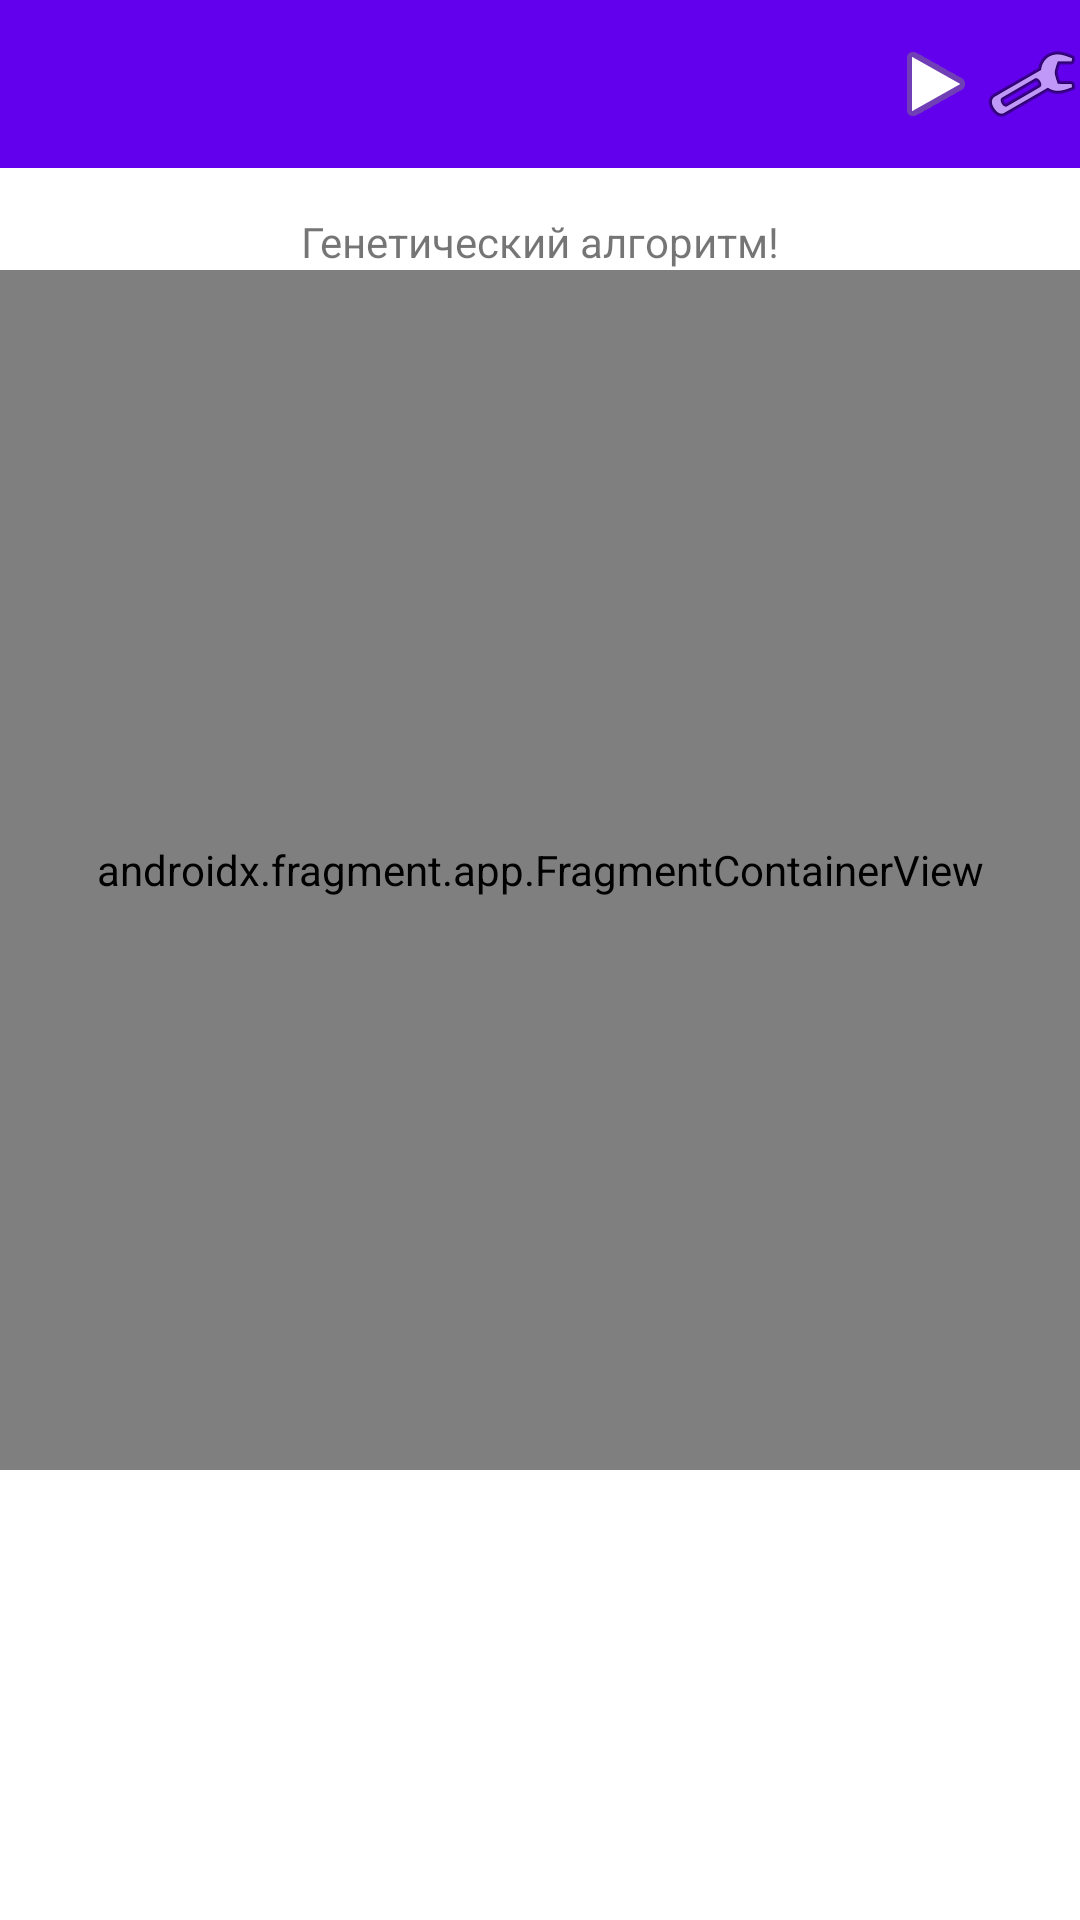

Screen size 1080 × 1920. Icon name, then its center in pixels as [x,y]:
play: [936,84]
preferences: [1032,84]
